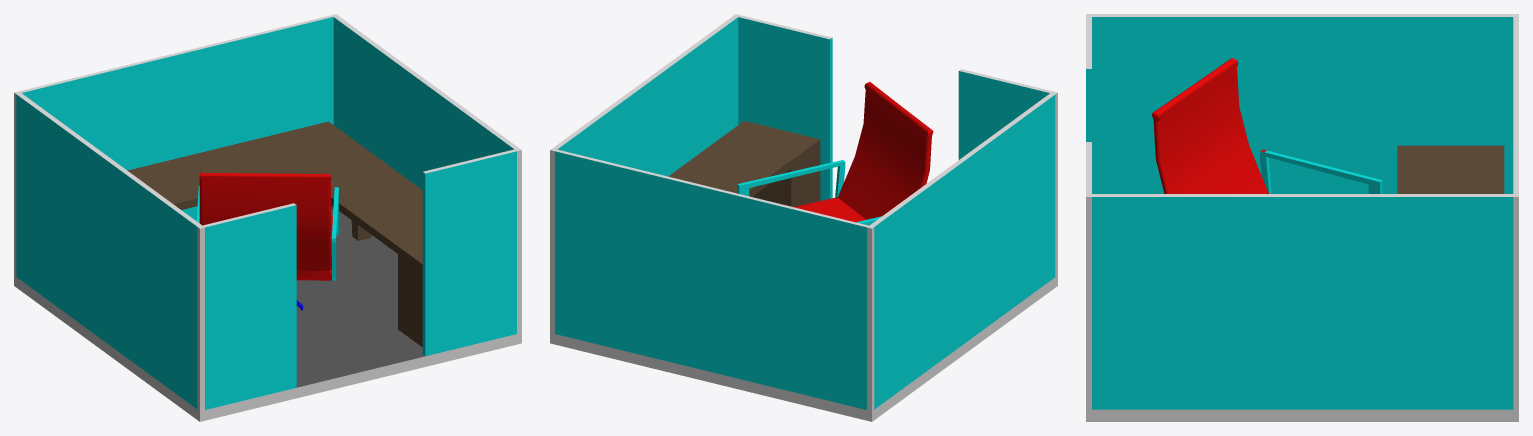
File: Cubical1.fbx
The picture shows the model from 3 angles, left to right: view 1: azimuth 30°, elevation 25°; view 2: azimuth 150°, elevation 25°; view 3: azimuth 270°, elevation 25°; orthographic projection. The views are drawn at different scales.
Visible parts, largest first — view 1: pCube1, pCube2, pCube6; view 2: pCube1, pCube6, pCube2; view 3: pCube1, pCube6, pCube2.
Part boxes in pixels (<box>): pCube1: <box>14,14,521,421</box>; pCube2: <box>127,121,422,347</box>; pCube6: <box>196,172,338,310</box>; pCube1: <box>550,14,1057,421</box>; pCube6: <box>737,82,933,225</box>; pCube2: <box>668,121,820,207</box>; pCube1: <box>1086,14,1518,421</box>; pCube6: <box>1151,58,1382,193</box>; pCube2: <box>1397,145,1504,193</box>.
Bounding box in the file's own units: 11.35 × 6.51 × 11.35.
